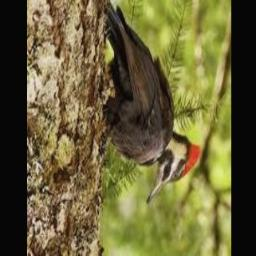Woodpecker: (102, 1, 201, 205)
